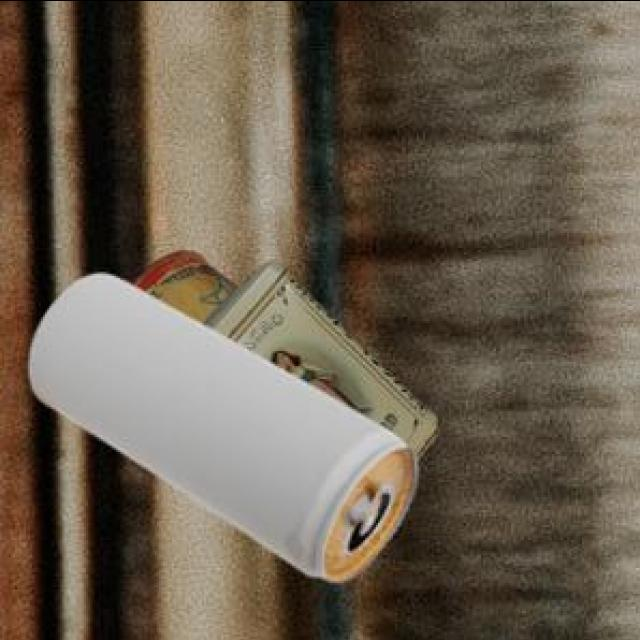logam: (27, 276, 413, 585), (199, 263, 439, 463), (126, 252, 235, 325)
